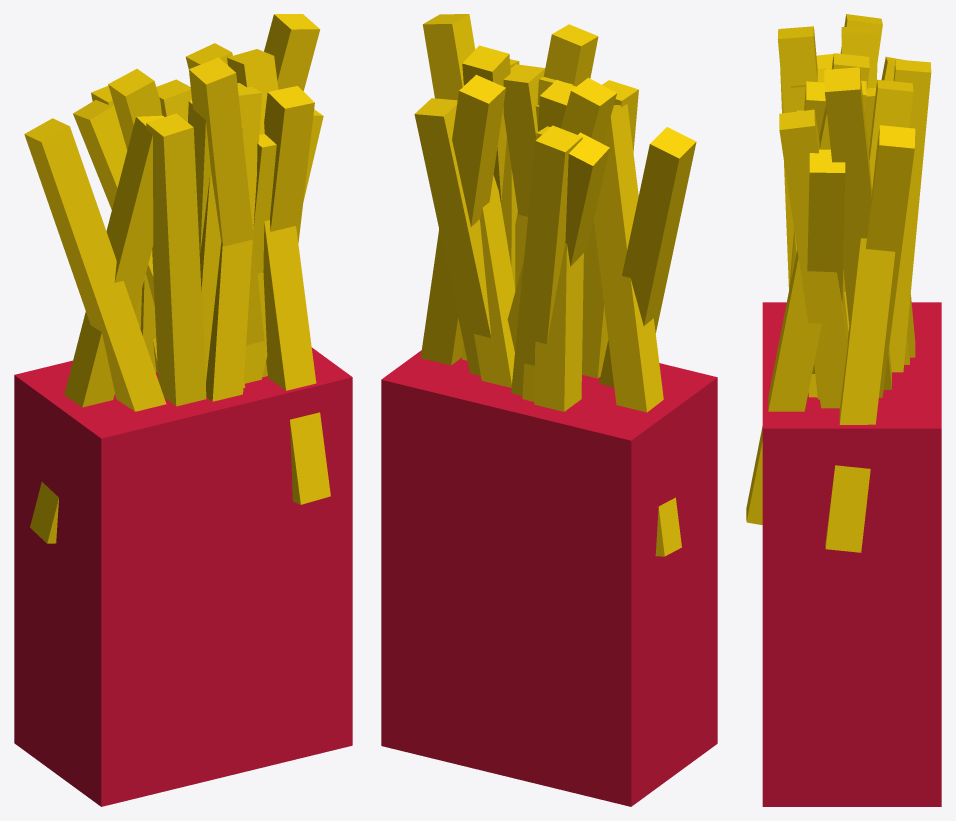
File: french_fries.glb
3 renders of one model, left to right at view 1: azimuth 30°, elevation 25°; view 2: azimuth 150°, elevation 25°; view 3: azimuth 270°, elevation 25°, orthographic. The views are drawn at different scales.
Bounding box in the file's own units: 2.83 × 6.69 × 1.64.
